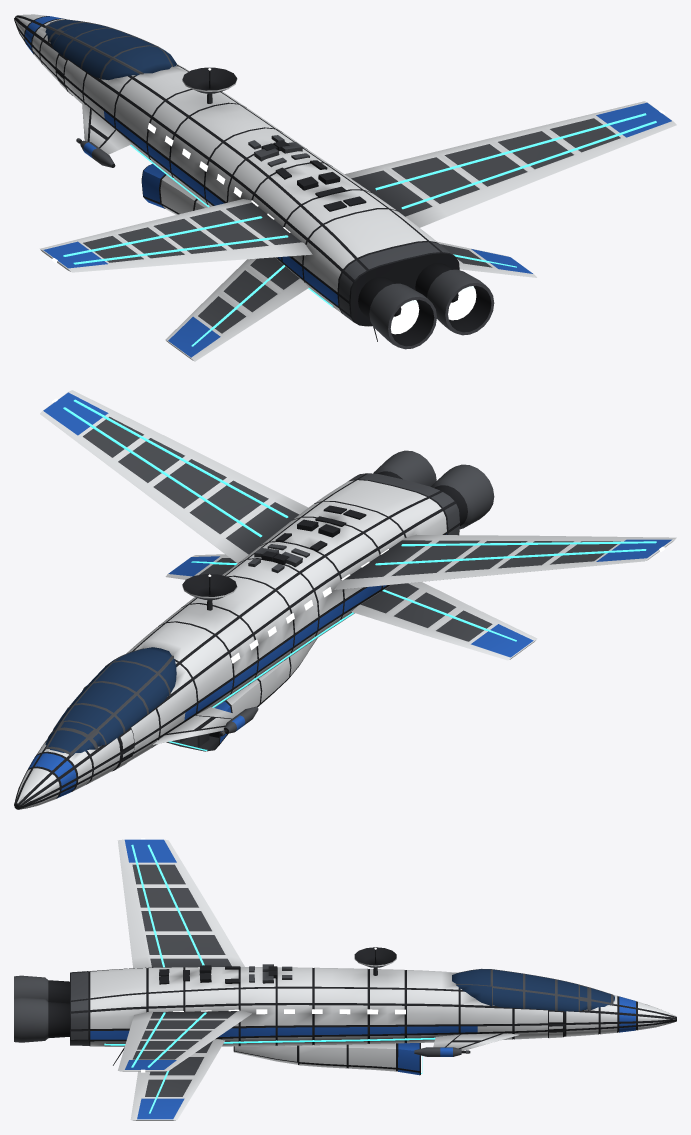
File: ship_wayfarer.glb
3 views of the same model, one above another, from view 1: azimuth 30°, elevation 25°; view 2: azimuth 150°, elevation 25°; view 3: azimuth 270°, elevation 25° (orthographic). The views are drawn at different scales.
Visible parts, largest first — view 1: ship_wayfarer_mesh; view 2: ship_wayfarer_mesh; view 3: ship_wayfarer_mesh.
Boxes of the visible parts, left/top/right/bottom form: ship_wayfarer_mesh: left=14, top=14, right=676, bottom=361; ship_wayfarer_mesh: left=14, top=390, right=676, bottom=809; ship_wayfarer_mesh: left=14, top=838, right=676, bottom=1120.
Size of the model in its own units: 25.57 by 6.08 by 30.8.
